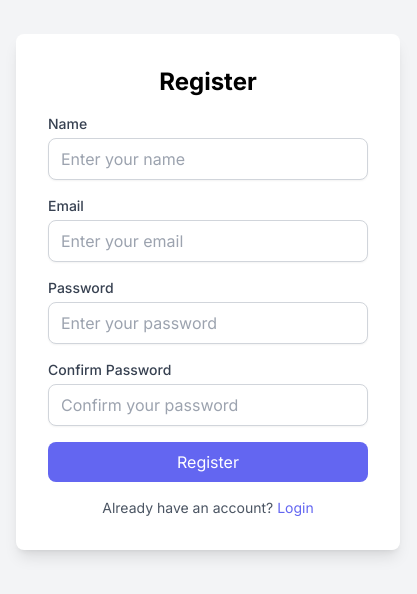
Scenario: RegisterPage Component › displays an error message when the server returns an error
Type "John Doe" into the field with placeholder "Enter your name" at (208,159), box [48,138,368,180]
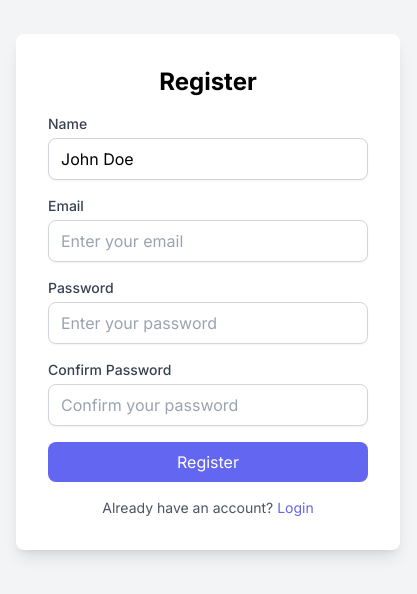
Type "john@example.com" into the field with placeholder "Enter your email" at (208,241), box [48,220,368,262]
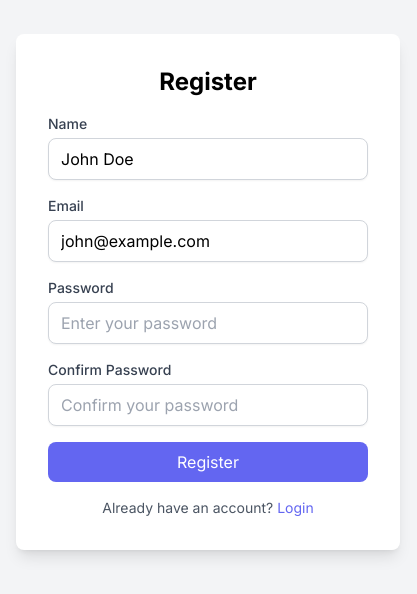
Type "password123" into the password field with placeholder "Enter your password" at (208,323), box [48,302,368,344]
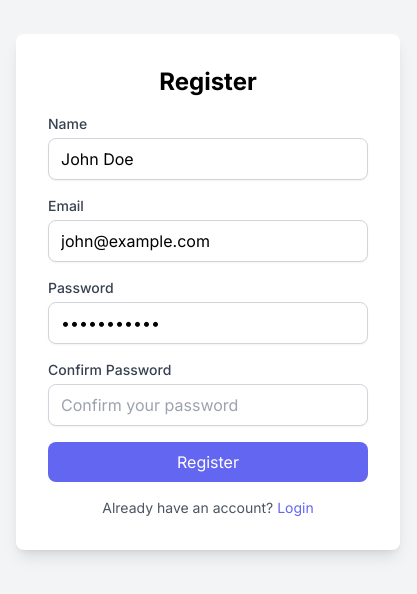
Type "password123" into the password field with placeholder "Confirm your password" at (208,405), box [48,384,368,426]
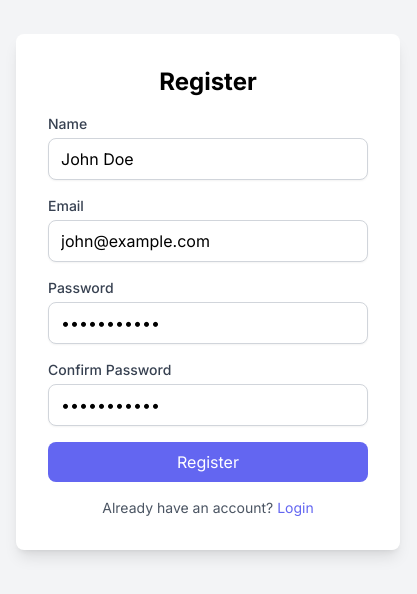
Click the button "Register" at (208,462), box [48,442,368,482]
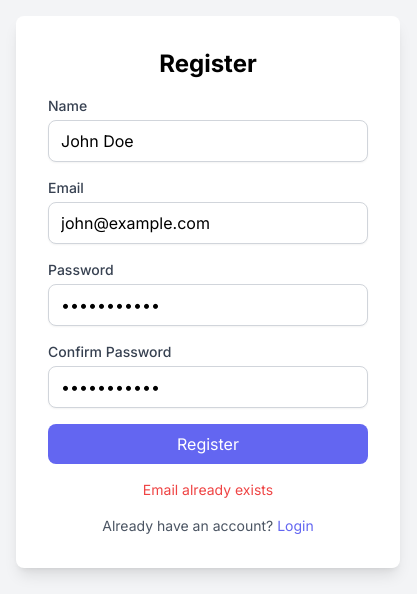
Check: the text "Email already exists" is shown, box [143,481,273,498]
